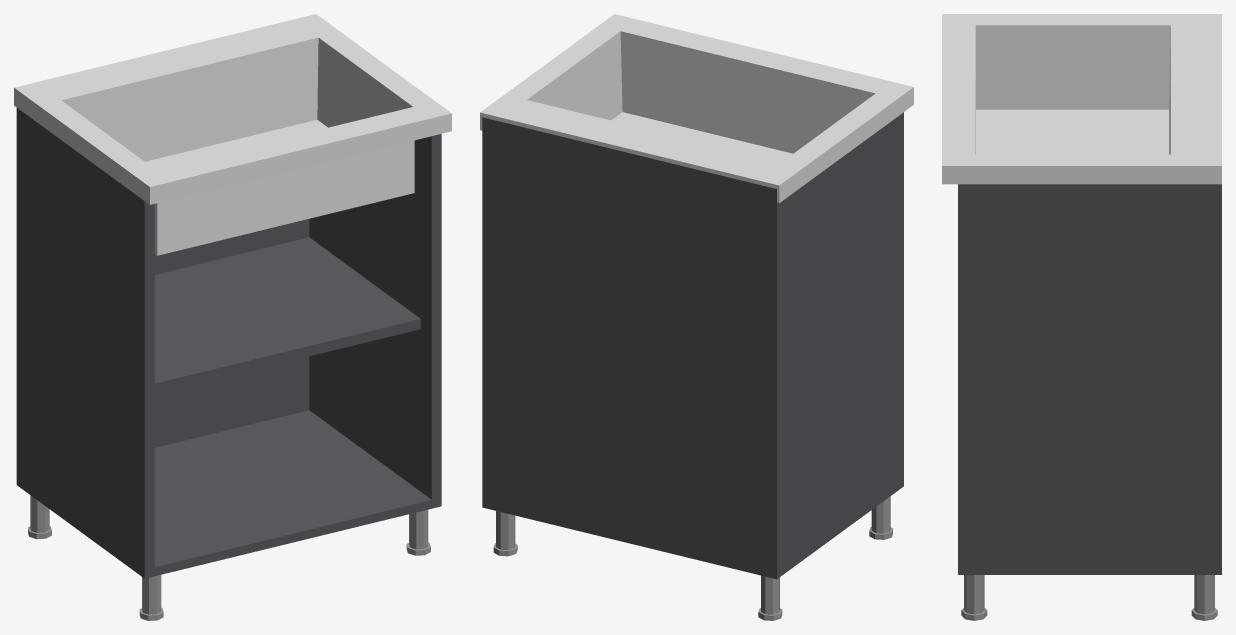
Rendered from Bathroom_C3_01.fbx.
3 renders of one model, left to right at view 1: azimuth 30°, elevation 25°; view 2: azimuth 150°, elevation 25°; view 3: azimuth 270°, elevation 25°, orthographic. The views are drawn at different scales.
Visible parts, largest first — view 1: Bathroom_C3_01; view 2: Bathroom_C3_01; view 3: Bathroom_C3_01.
Part boxes in pixels (bbox=[...]): Bathroom_C3_01: bbox=[14, 14, 451, 620]; Bathroom_C3_01: bbox=[480, 14, 913, 620]; Bathroom_C3_01: bbox=[942, 14, 1221, 620].
Size of the model in its own units: 61 by 85.82 by 47.51.
